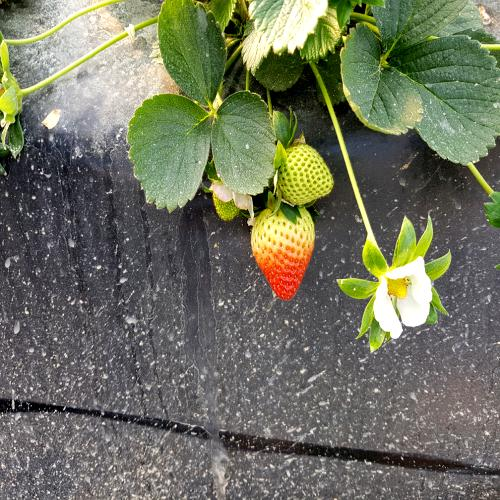partially-ripe: (247, 196, 321, 308)
